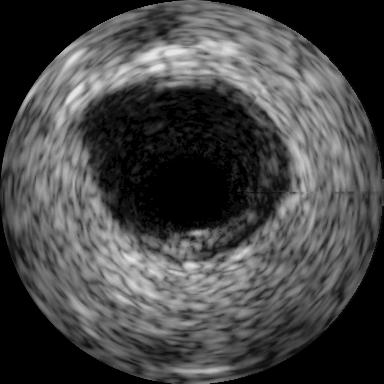Lumen: (151, 151, 233, 231)
